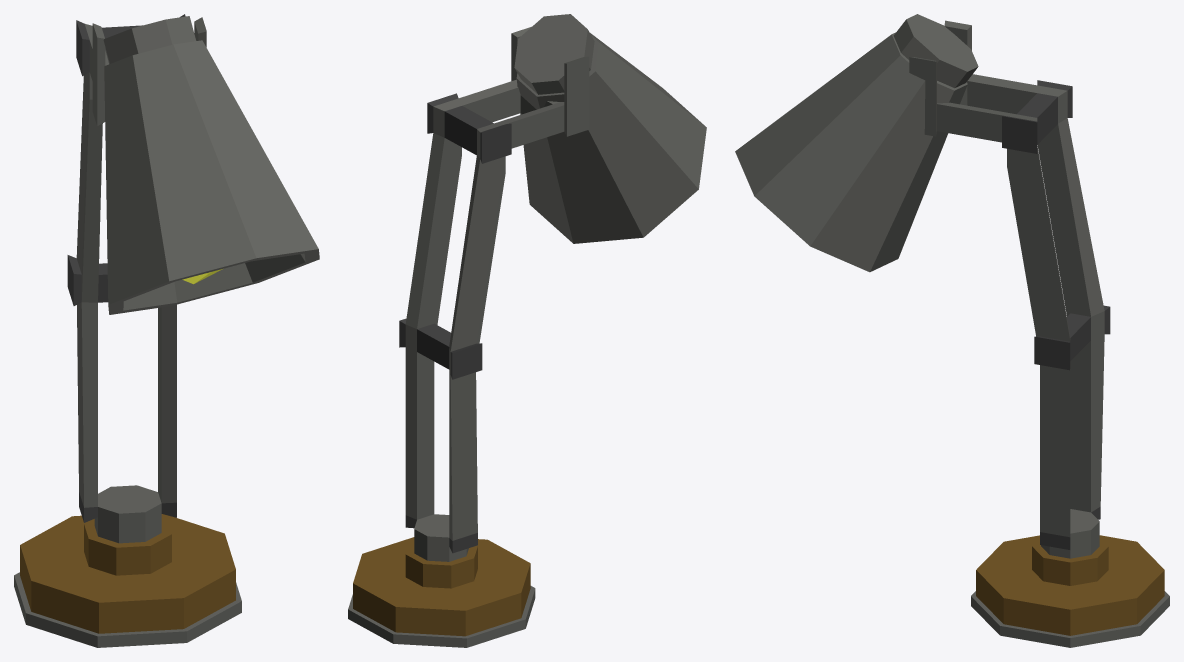
Rendered from lamp.fbx.
3 views of the same model, side by side, from view 1: azimuth 30°, elevation 25°; view 2: azimuth 150°, elevation 25°; view 3: azimuth 270°, elevation 25° (orthographic). The views are drawn at different scales.
Visible parts, largest first — view 1: Cylinder; view 2: Cylinder; view 3: Cylinder.
Part boxes in pixels (<box>): Cylinder: <box>14,14,319,647</box>; Cylinder: <box>348,14,706,647</box>; Cylinder: <box>735,14,1169,647</box>.
Bounding box in the file's own units: 263 × 623 × 437.
